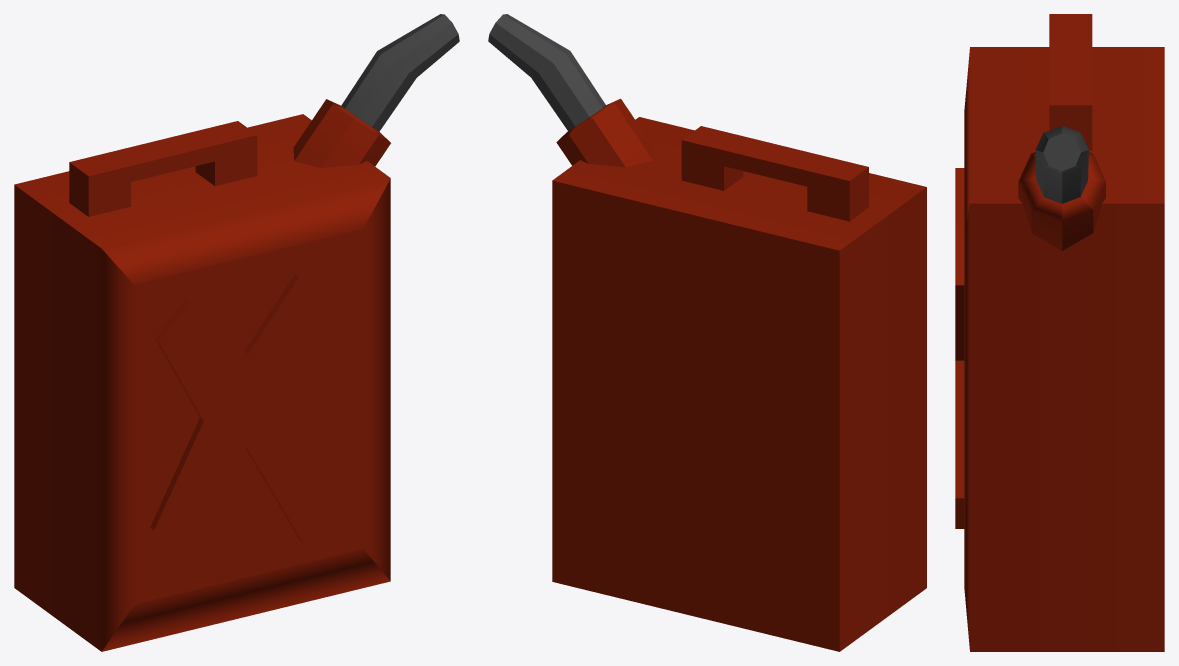
Rendered from Fuel.fbx.
The picture shows the model from 3 angles, left to right: view 1: azimuth 30°, elevation 25°; view 2: azimuth 150°, elevation 25°; view 3: azimuth 270°, elevation 25°; orthographic projection. The views are drawn at different scales.
Visible parts, largest first — view 1: Fuel; view 2: Fuel; view 3: Fuel.
Boxes of the visible parts, x1=… form: Fuel: x1=14, y1=14, x2=459, y2=651; Fuel: x1=488, y1=14, x2=926, y2=651; Fuel: x1=955, y1=14, x2=1164, y2=651.
Size of the model in its own units: 4.1 by 5.09 by 1.69.
